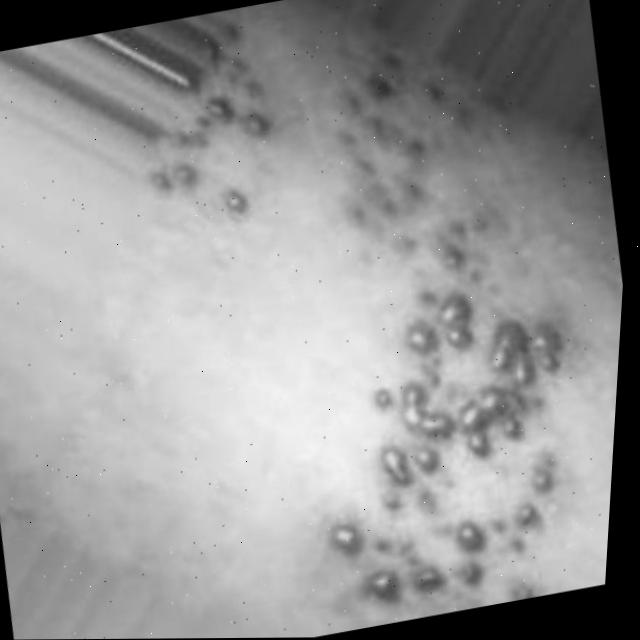Shingles: (283, 16, 621, 625), (122, 41, 288, 247), (332, 527, 361, 559)
